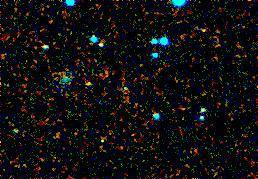star: (73, 61, 103, 91)
